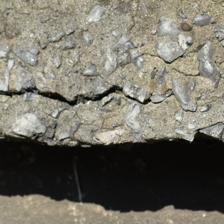Crack: (2, 39, 200, 77)
